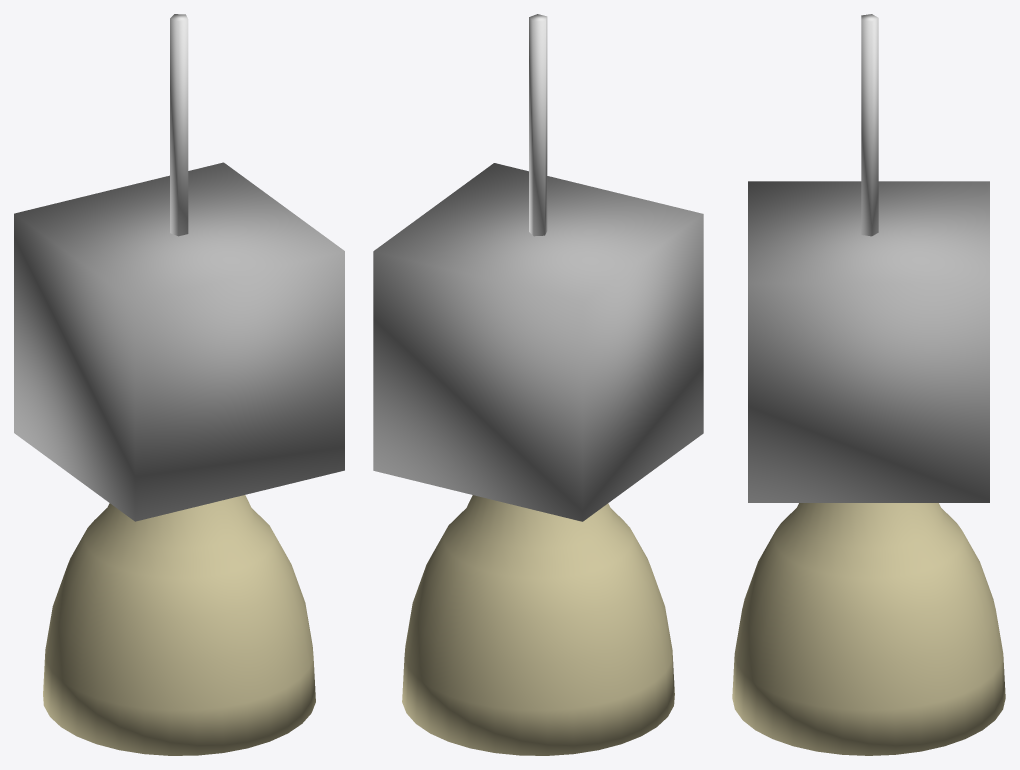
The model's file is LightProp.fbx.
3 views of the same model, side by side, from view 1: azimuth 30°, elevation 25°; view 2: azimuth 150°, elevation 25°; view 3: azimuth 270°, elevation 25° (orthographic).
Visible parts, largest first — view 1: LightProp; view 2: LightProp; view 3: LightProp.
Boxes of the visible parts, <box> form: LightProp: <box>14,14,344,755</box>; LightProp: <box>373,14,703,755</box>; LightProp: <box>732,14,1005,755</box>.
Bounding box in the file's own units: 70.24 × 193 × 70.24.
